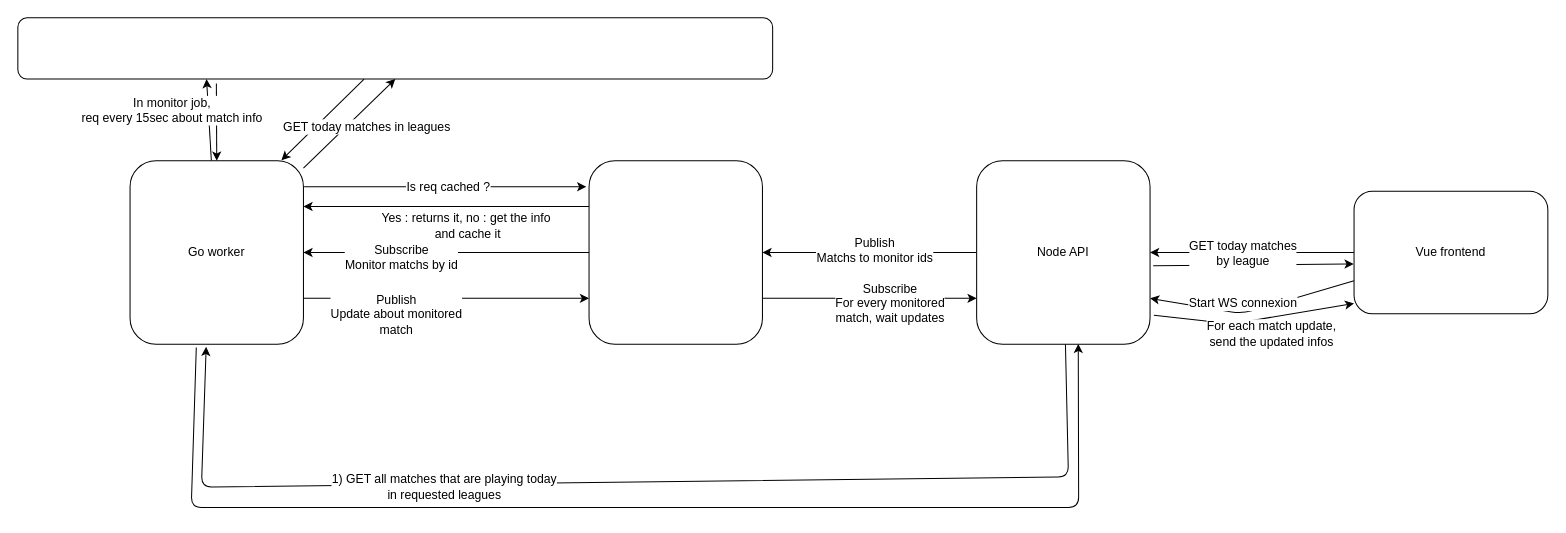
This 1566x533 diagram has some shape labels left out. Each missing label, with the box of its shape:
Redis: (588, 160, 762, 344)
Third party API: (17, 17, 773, 79)
